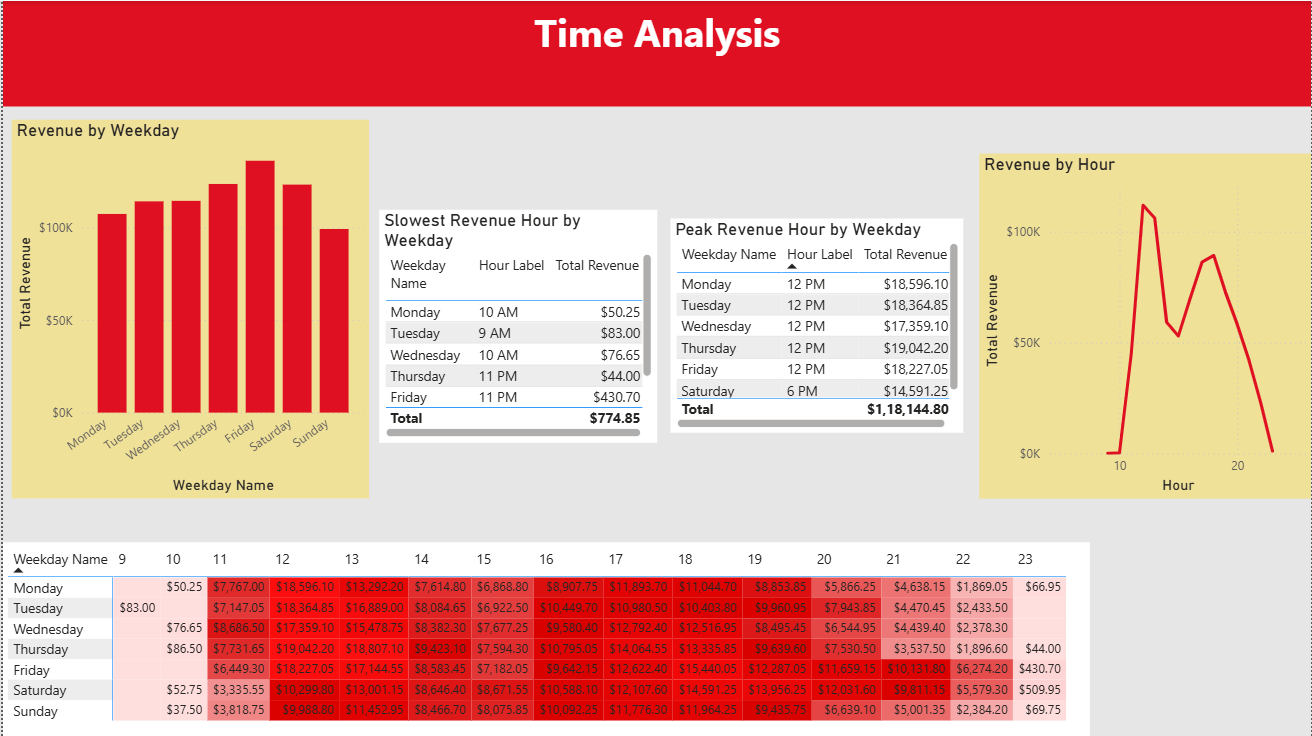

Layout of this report page (visuals, bound fields, positions):
{"tool":"powerbi","page":{"name":"Time Analysis","canvas":[1280,720],"ordinal":2},"visuals":[{"type":"textbox","box":[0,0,1280.3,102.9],"z":0},{"type":"clusteredColumnChart","title":"Revenue by Weekday","fields":{"Category":["pizza_sales.Weekday Name"],"Y":["pizza_sales.Total Revenue"]},"box":[8.2,116.6,349.9,370.5],"z":1000},{"type":"lineChart","title":"Revenue by Hour","fields":{"Category":["pizza_sales.Hour"],"Y":["pizza_sales.Total Revenue"]},"box":[955.1,149.6,325.2,337.6],"z":2000},{"type":"pivotTable","fields":{"Values":["pizza_sales.Total Revenue"],"Rows":["pizza_sales.Weekday Name"],"Columns":["pizza_sales.Hour"]},"box":[0,529.7,1063.5,190.7],"z":3000},{"type":"tableEx","title":"Peak Revenue Hour by Weekday","fields":{"Values":["pizza_sales.Weekday Name","pizza_sales.Hour Label","pizza_sales.Total Revenue"]},"box":[653.2,212.7,286.8,209.9],"z":4000},{"type":"tableEx","title":"Slowest Revenue Hour by Weekday","fields":{"Values":["pizza_sales.Weekday Name","pizza_sales.Hour Label","pizza_sales.Total Revenue"]},"box":[367.8,204.5,271.7,227.8],"z":6000}]}

Visuals, with their boxes in screenshot pixels (x1, y1, x2, y2), scaled from the page's 1280x720 canvas onto the 1312x736 screenshot:
textbox: rect(0, 0, 1311, 105)
"Revenue by Weekday" clusteredColumnChart: rect(8, 119, 367, 498)
"Revenue by Hour" lineChart: rect(979, 153, 1311, 498)
pivotTable - pizza_sales.Total Revenue x pizza_sales.Weekday Name: rect(0, 541, 1090, 735)
"Peak Revenue Hour by Weekday" tableEx: rect(670, 217, 963, 432)
"Slowest Revenue Hour by Weekday" tableEx: rect(377, 209, 655, 442)
